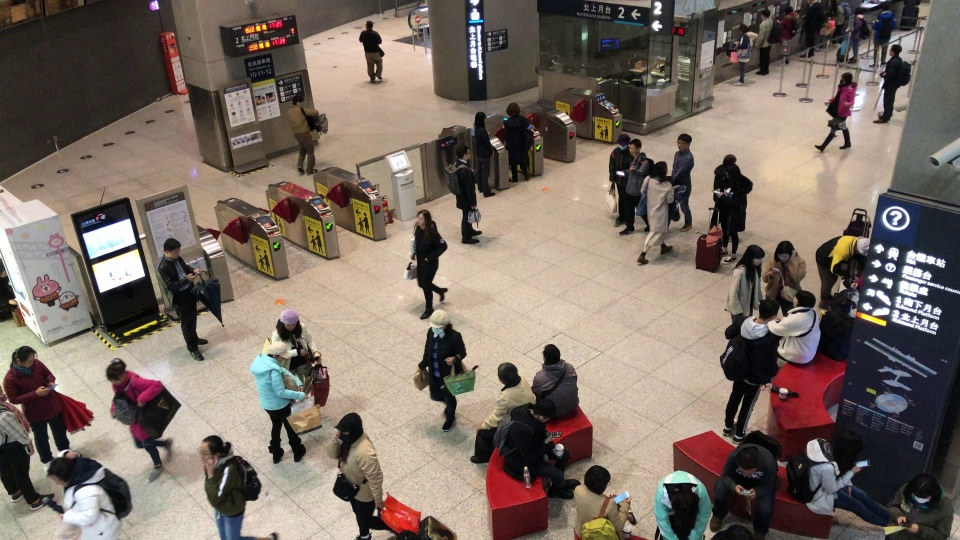person_head: (834, 429, 863, 463), (583, 465, 611, 494), (46, 457, 72, 487), (338, 412, 363, 442), (199, 435, 223, 465), (910, 476, 934, 503), (672, 493, 700, 516), (736, 448, 759, 476), (531, 398, 556, 422), (11, 346, 38, 367), (267, 340, 291, 363), (105, 358, 127, 382), (496, 362, 518, 385), (429, 310, 449, 334), (725, 523, 755, 539), (792, 289, 816, 308), (758, 299, 780, 319), (746, 243, 765, 265), (775, 240, 794, 261), (163, 237, 181, 259), (542, 344, 561, 364), (280, 309, 298, 330), (855, 236, 869, 257), (415, 209, 431, 227), (676, 133, 692, 151), (652, 161, 669, 177), (455, 144, 471, 160), (505, 101, 521, 116), (724, 165, 740, 180), (629, 138, 642, 156), (473, 111, 487, 127), (617, 133, 631, 149), (888, 43, 902, 57), (839, 71, 853, 84), (722, 154, 736, 166), (292, 94, 305, 106), (760, 8, 771, 19), (0, 259, 6, 277), (738, 23, 748, 33), (783, 5, 793, 15), (365, 20, 374, 30), (880, 2, 889, 11), (853, 7, 864, 14), (829, 0, 838, 6), (807, 0, 818, 4)
person_vbox: (785, 429, 891, 528), (493, 397, 581, 500), (2, 345, 71, 471), (104, 358, 173, 483), (719, 299, 778, 445), (197, 435, 279, 540), (709, 429, 782, 540), (46, 449, 132, 540), (325, 412, 385, 540), (248, 340, 307, 465), (469, 361, 536, 463), (0, 387, 55, 511), (155, 237, 209, 361), (416, 309, 467, 432), (573, 465, 638, 540), (884, 473, 953, 540), (408, 209, 448, 318), (814, 235, 870, 310), (653, 469, 712, 540), (712, 165, 753, 264), (767, 290, 821, 364), (636, 160, 674, 264), (443, 143, 482, 244), (271, 308, 315, 395), (530, 344, 580, 419), (813, 72, 857, 152), (761, 240, 806, 316), (871, 43, 912, 124), (723, 244, 763, 325), (618, 139, 650, 236), (709, 153, 743, 243), (286, 94, 319, 175), (502, 102, 534, 183), (608, 133, 633, 227), (671, 132, 694, 230), (473, 110, 497, 197), (868, 2, 898, 69), (753, 8, 781, 76), (772, 5, 803, 66), (358, 19, 384, 83), (732, 23, 757, 87), (799, 0, 826, 57), (845, 6, 869, 64), (0, 258, 18, 321), (827, 1, 851, 48)
